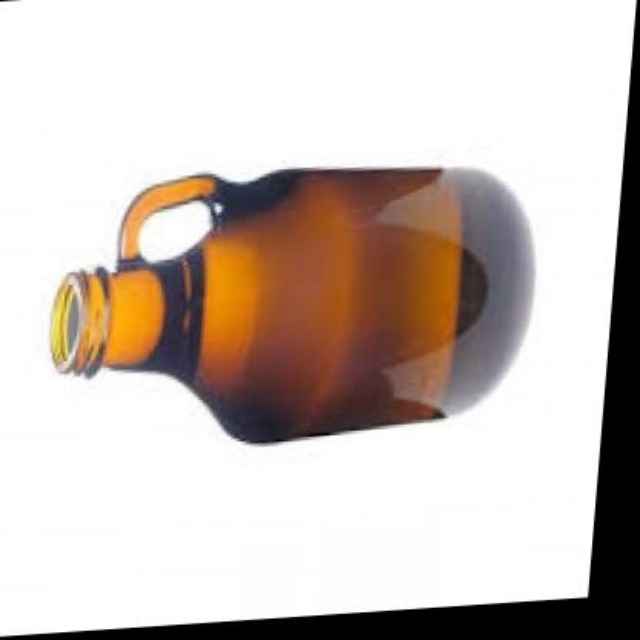trash: (51, 169, 532, 440)
